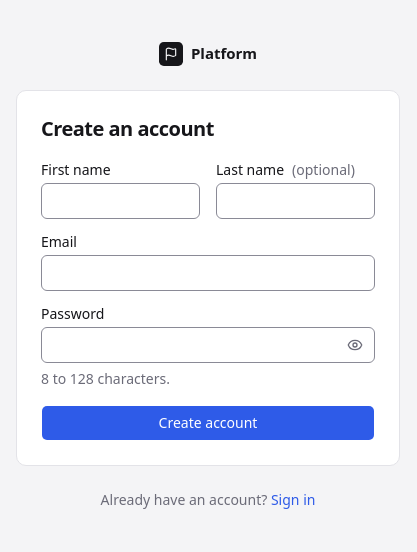
Test: register › puts the server's field errors on their fields, and the rest above the form
Type "Jane" into the field labelled "First name". click: (120,201)
box: top-left (41, 183), bottom-right (200, 219)
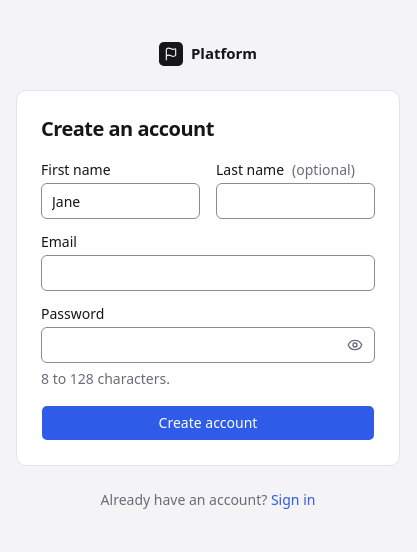
Type "jane@example.com" into the field labelled "Email". click: (208,273)
box: top-left (41, 255), bottom-right (375, 291)
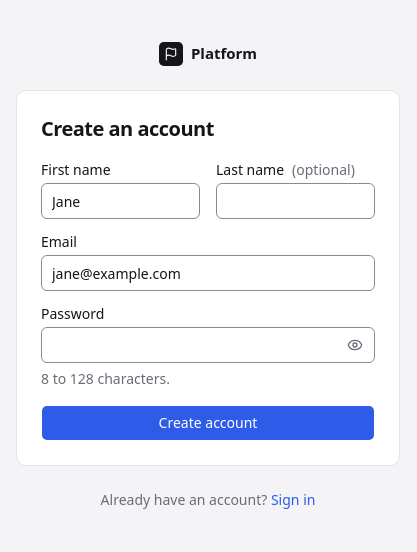
Type "correct horse" into the password field labelled "Password". click: (208,345)
box: top-left (41, 327), bottom-right (375, 363)
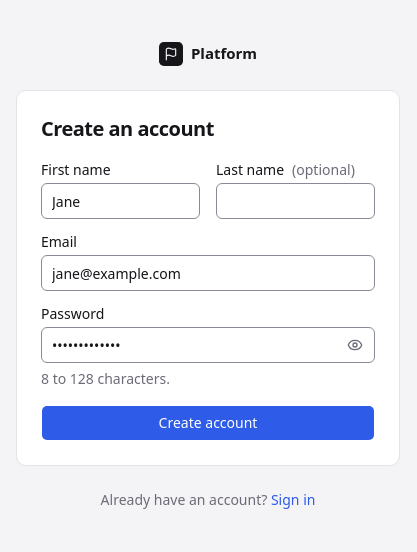
Click the button "Create account". click: (208,423)
box: top-left (41, 405), bottom-right (375, 441)
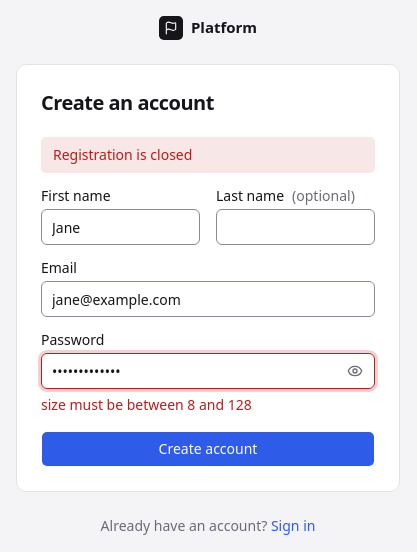
Result: the text "size must be between 8 and 128" is shown at top-left (41, 395), bottom-right (252, 414)
Result: the message reads "Registration is closed" at top-left (53, 145), bottom-right (192, 164)
